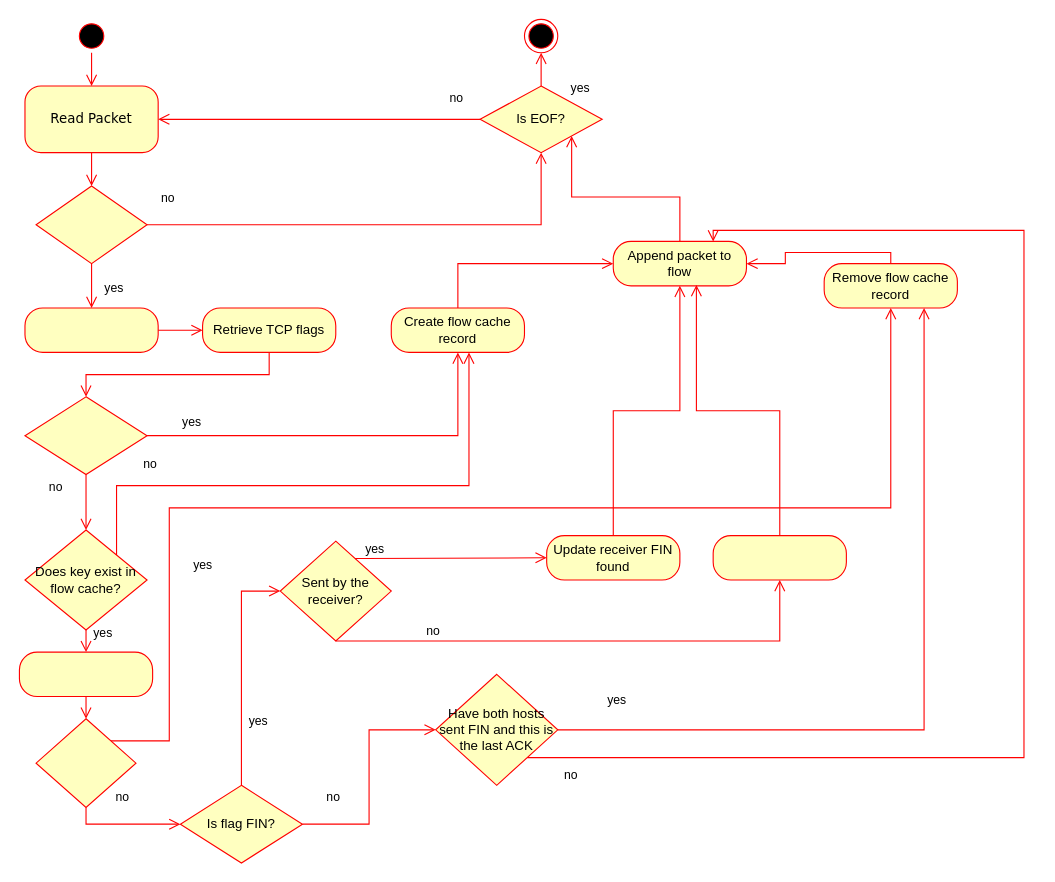
Image size: 1055x882. Some labels were removed from this diagram. The centre of each missing label's shape, as x and y in pixels:
"Get flow cache record" belongs at (x=85, y=674).
"Is flag RST?" belongs at (x=85, y=763).
"Is flag SYN?" belongs at (x=85, y=435).
"Is packet TCP?" belongs at (x=91, y=224).
"Normalize key" belongs at (x=91, y=329).
"Update initiator FIN found" belongs at (x=779, y=557).
